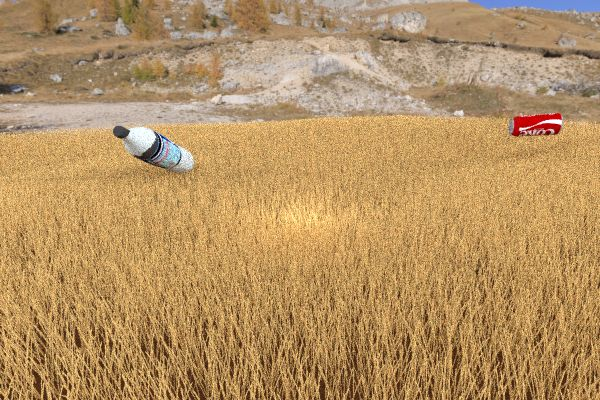Plastic Bottle: (112, 125, 194, 174), (270, 115, 311, 148), (508, 113, 563, 136)
